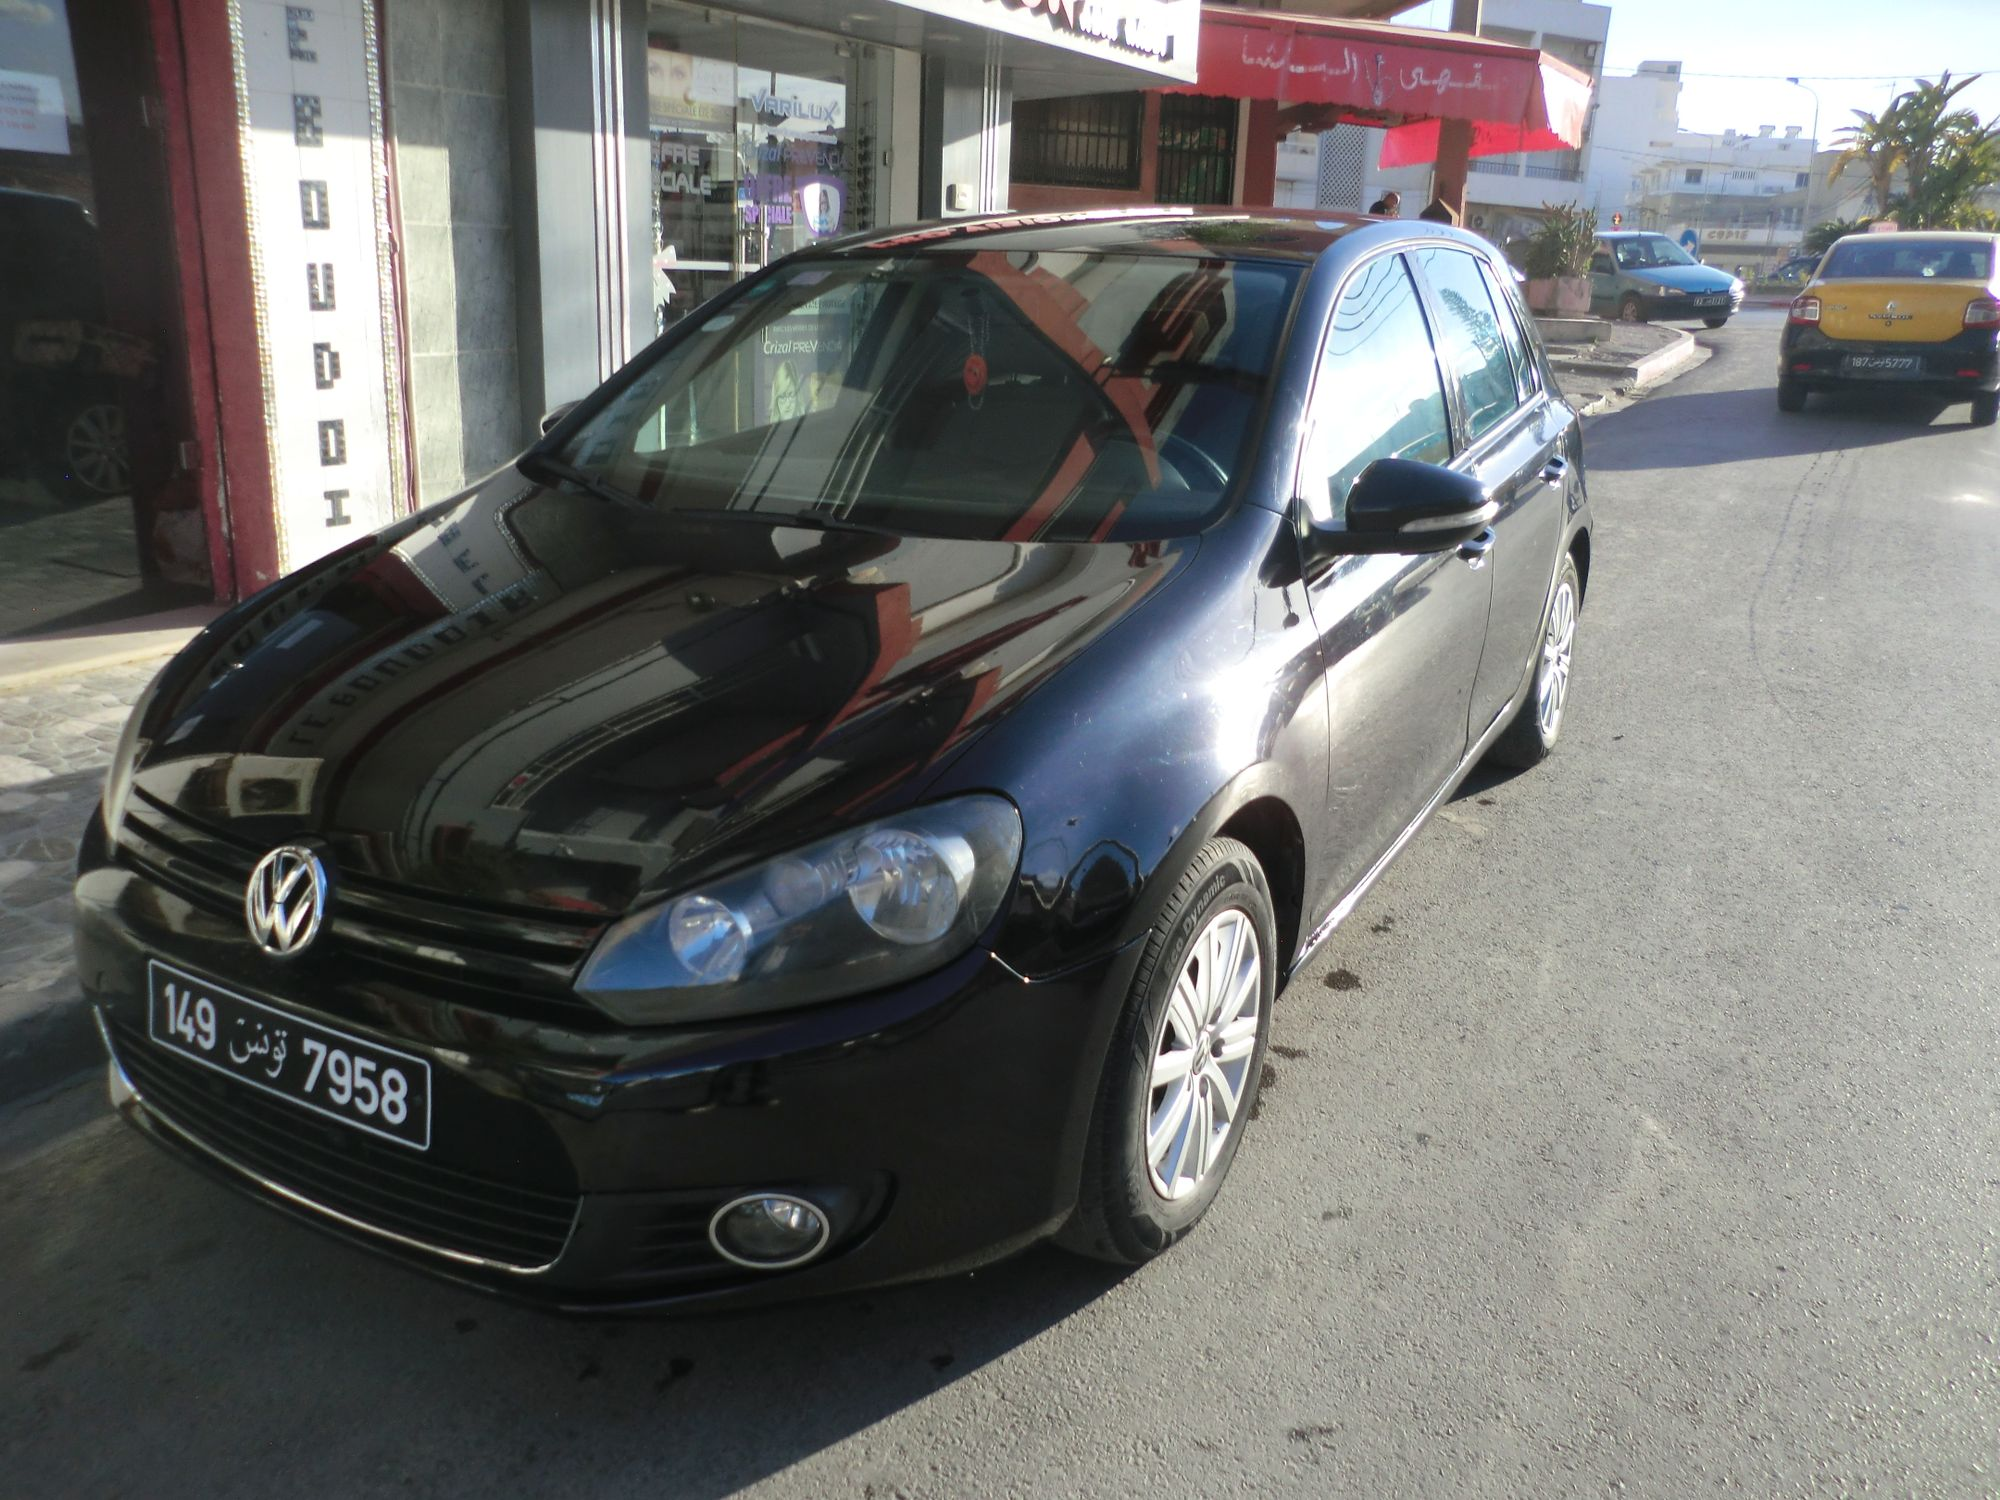LP: (145, 953, 435, 1156)
